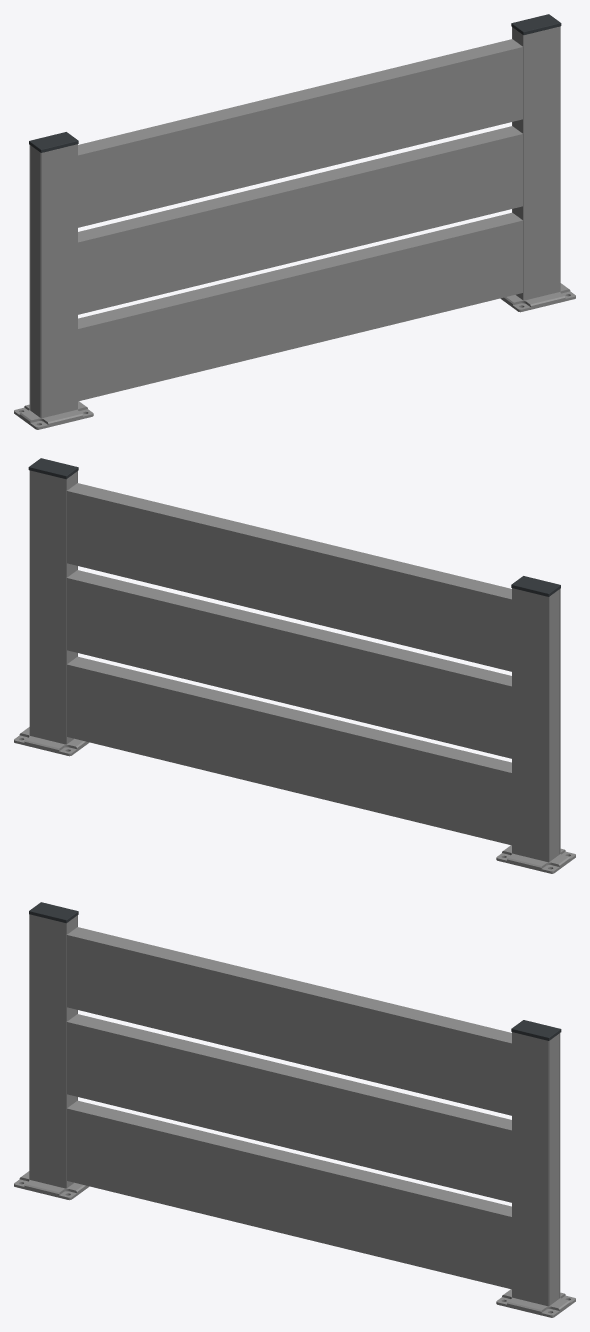
3 renders of one model, top to bottom at view 1: azimuth 30°, elevation 25°; view 2: azimuth 150°, elevation 25°; view 3: azimuth 330°, elevation 25°, orthographic.
Visible parts, largest first — view 1: Rectangle057, Rectangle056, Rectangle058, base007, base008, Box018, Box017; view 2: Rectangle057, Rectangle056, Rectangle058, base007, base008, Box018, Box017; view 3: Rectangle057, Rectangle058, Rectangle056, base008, base007, Box017, Box018.
Boxes of the visible parts, x1,y1,x2,y2 form: Rectangle057: (78,39,523,401); Rectangle056: (29,144,77,418); Rectangle058: (512,26,560,300); base007: (14,401,93,429); base008: (500,283,575,312); Box018: (511,14,561,35); Box017: (29,132,78,152); Rectangle057: (66,483,511,845); Rectangle056: (512,588,560,862); Rectangle058: (29,470,77,744); base007: (496,845,575,873); base008: (14,727,89,756); Box018: (28,458,78,479); Box017: (511,576,560,596); Rectangle057: (66,927,511,1289); Rectangle058: (512,1032,560,1306); Rectangle056: (29,914,77,1188); base008: (496,1289,575,1317); base007: (14,1171,89,1200); Box017: (29,902,78,923); Box018: (511,1020,561,1040).
Size of the model in its own units: 1171 by 567 by 90.02.
2 materials, 1 textured.
